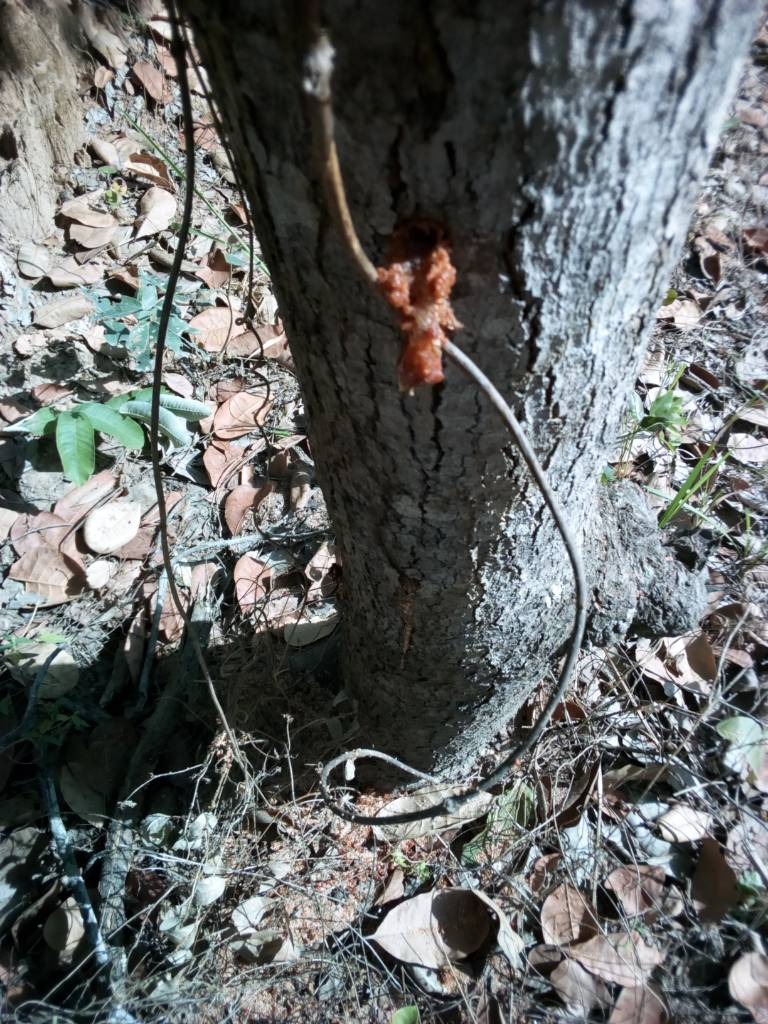Apate terebrans: (286, 217, 557, 496)
